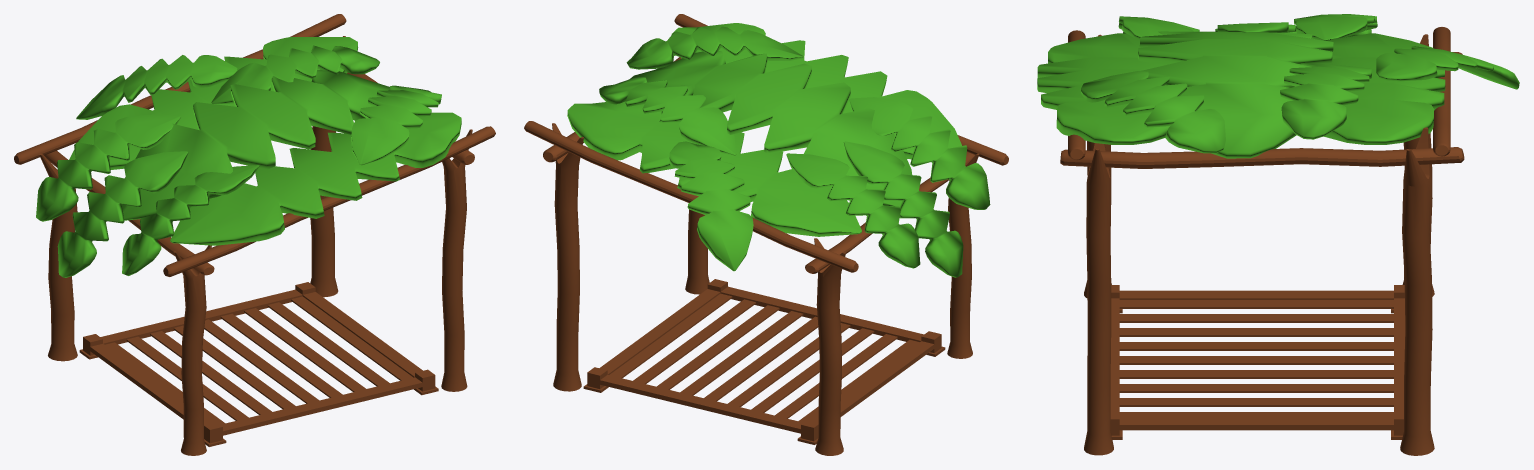
File: leafTree.fbx
3 renders of one model, left to right at view 1: azimuth 30°, elevation 25°; view 2: azimuth 150°, elevation 25°; view 3: azimuth 270°, elevation 25°, orthographic. The views are drawn at different scales.
Parts seen in each view (by area): view 1: leaves, trees; view 2: leaves, trees; view 3: trees, leaves.
Part boxes in pixels (left/top/right/bottom): leaves: left=36, top=37, right=461, bottom=277; trees: left=14, top=14, right=495, bottom=455; leaves: left=567, top=23, right=990, bottom=277; trees: left=524, top=14, right=1008, bottom=455; trees: left=1060, top=27, right=1464, bottom=455; leaves: left=1037, top=14, right=1519, bottom=158.
Bounding box in the file's own units: 153 × 113 × 147.
